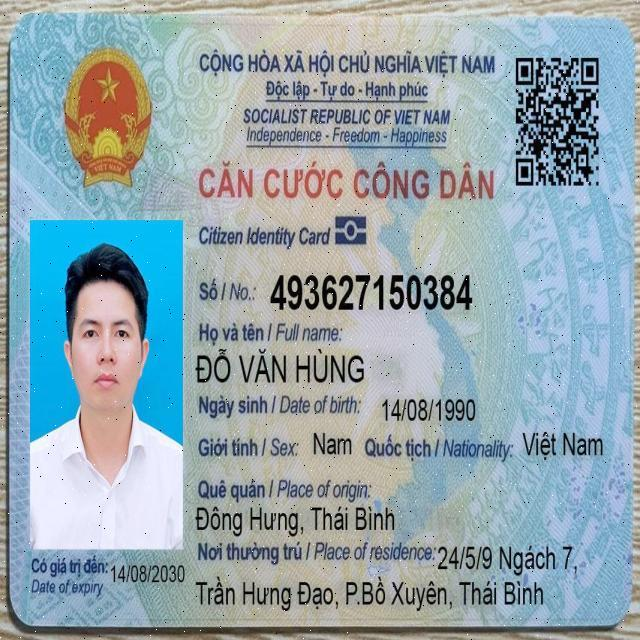current_place: (192, 571, 550, 616), (435, 536, 583, 576)
dob: (376, 391, 479, 428)
expire_date: (108, 556, 190, 590)
gender: (310, 426, 355, 461)
id: (265, 266, 476, 317)
name: (193, 344, 367, 389)
nationality: (519, 421, 608, 466)
origin_place: (192, 498, 398, 538)
qr: (513, 54, 604, 190)
